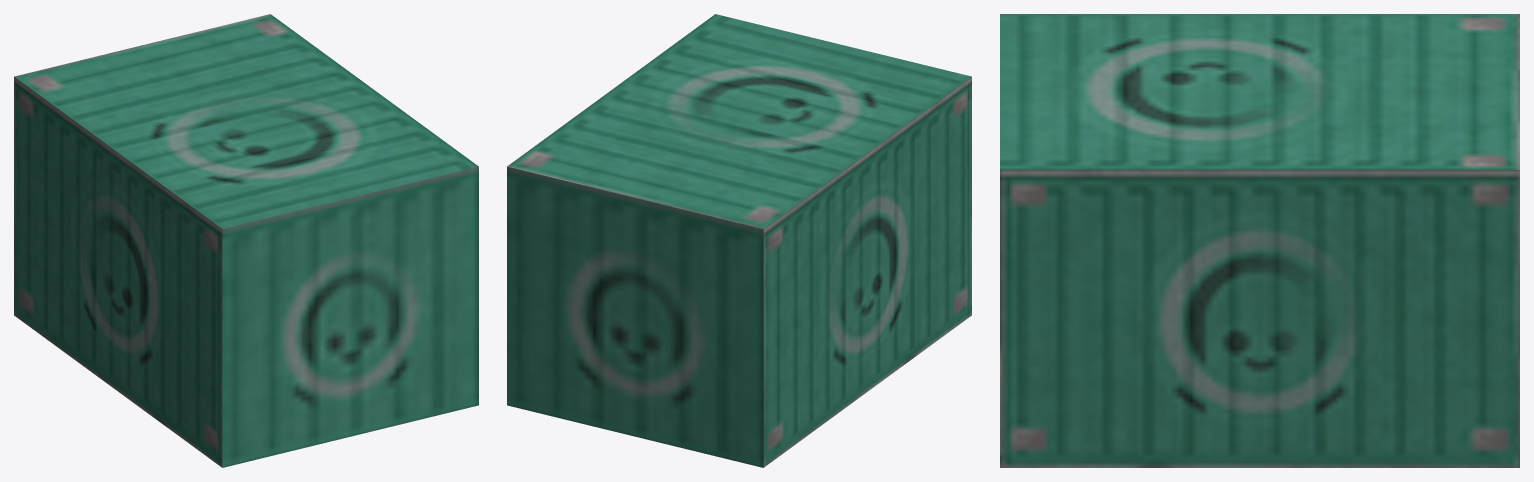
3 renders of one model, left to right at view 1: azimuth 30°, elevation 25°; view 2: azimuth 150°, elevation 25°; view 3: azimuth 270°, elevation 25°, orthographic. The views are drawn at different scales.
Parts seen in each view (by area): view 1: truck-green-cargo; view 2: truck-green-cargo; view 3: truck-green-cargo.
Part boxes in pixels (box(x1,y1,x2,y2)): truck-green-cargo: box(14, 14, 478, 467); truck-green-cargo: box(507, 14, 971, 467); truck-green-cargo: box(1000, 14, 1519, 467).
Size of the model in its own units: 0.83 by 0.7384 by 1.17.
1 material, 1 textured.
